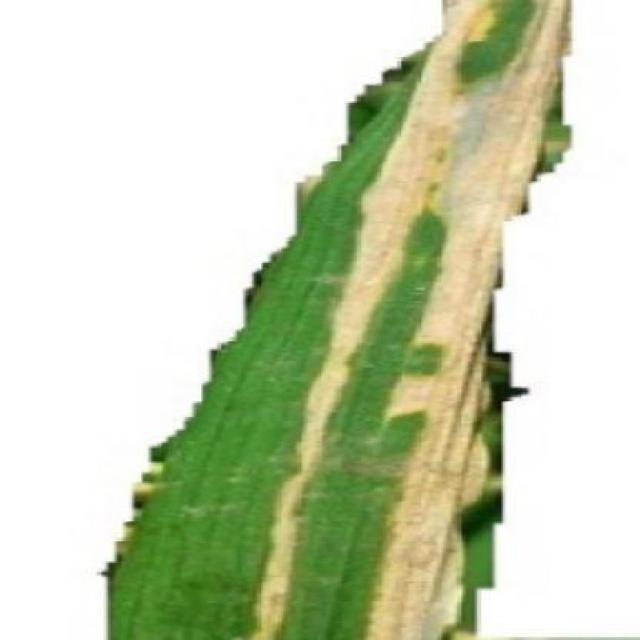Brown_Spot: (100, 0, 588, 640)
